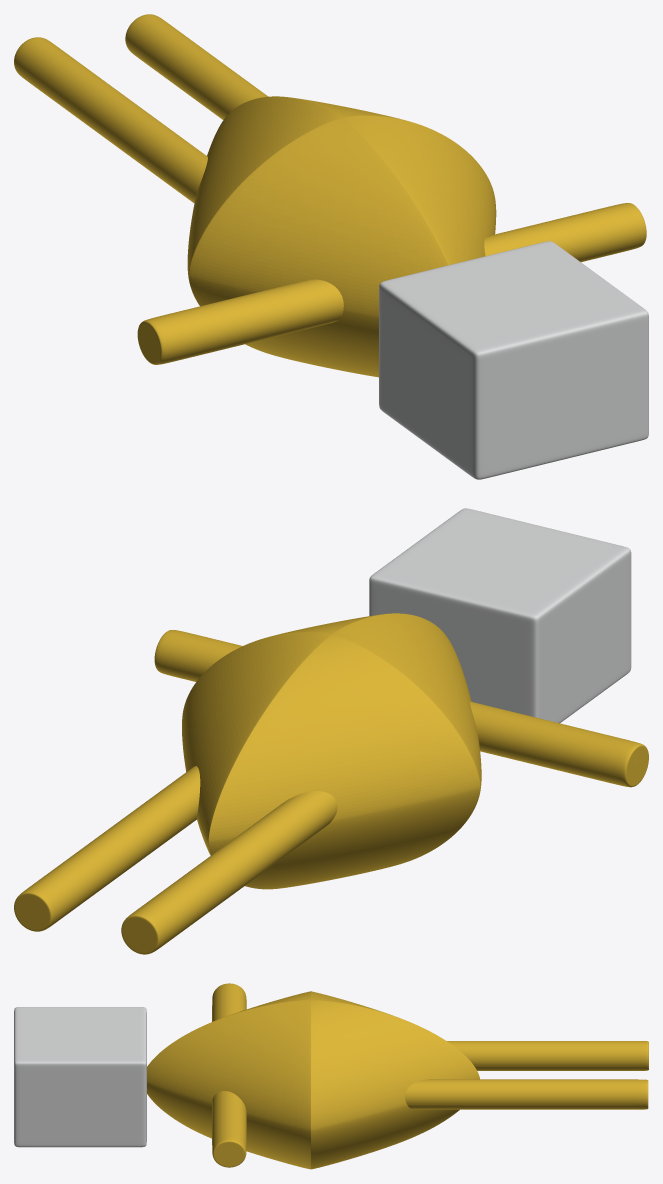
File: 20_circular_headed_guy_sq.glb
The picture shows the model from 3 angles, top to bottom: view 1: azimuth 30°, elevation 25°; view 2: azimuth 150°, elevation 25°; view 3: azimuth 270°, elevation 25°; orthographic projection. The views are drawn at different scales.
Visible parts, largest first — view 1: superquadric_0, superquadric_1, superquadric_2, superquadric_3, superquadric_4; view 2: superquadric_0, superquadric_1, superquadric_2, superquadric_3, superquadric_4; view 3: superquadric_0, superquadric_1, superquadric_4, superquadric_3, superquadric_2.
Boxes of the visible parts, x1,y1,x2,y2 form: superquadric_0: (187, 96, 496, 377); superquadric_1: (379, 241, 648, 479); superquadric_2: (137, 203, 646, 364); superquadric_3: (14, 37, 207, 203); superquadric_4: (125, 14, 267, 119); superquadric_0: (182, 613, 481, 889); superquadric_1: (369, 508, 631, 723); superquadric_2: (154, 630, 648, 787); superquadric_3: (121, 791, 337, 954); superquadric_4: (14, 766, 200, 931); superquadric_0: (147, 991, 479, 1169); superquadric_1: (14, 1007, 146, 1147); superquadric_4: (405, 1079, 648, 1109); superquadric_3: (447, 1041, 648, 1070); superquadric_2: (212, 983, 246, 1167).
Size of the model in its own units: 0.5891 by 0.2792 by 1.
